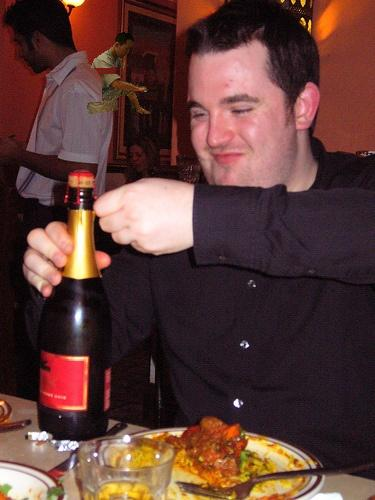tampered: (88, 33, 150, 114)
